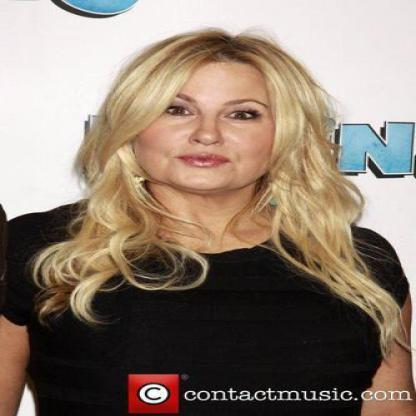long-hair: (47, 194, 380, 252)
